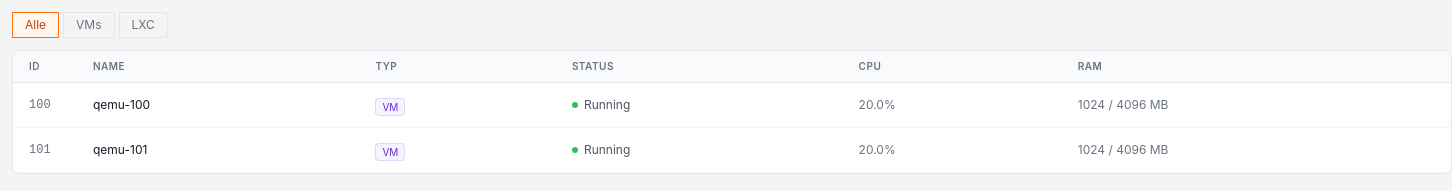
Test: ComputeVmSection › shows empty state when LXC filter but no LXC containers
The width and height of the screenshot is (1452, 191).
Click the button "LXC": (143, 25) left=118, top=12, right=168, bottom=38
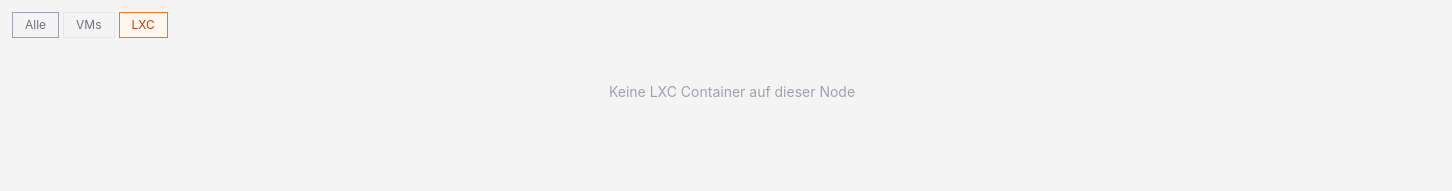
Expected: the text "Keine LXC Container auf dieser Node" is shown, left=609, top=83, right=855, bottom=100
